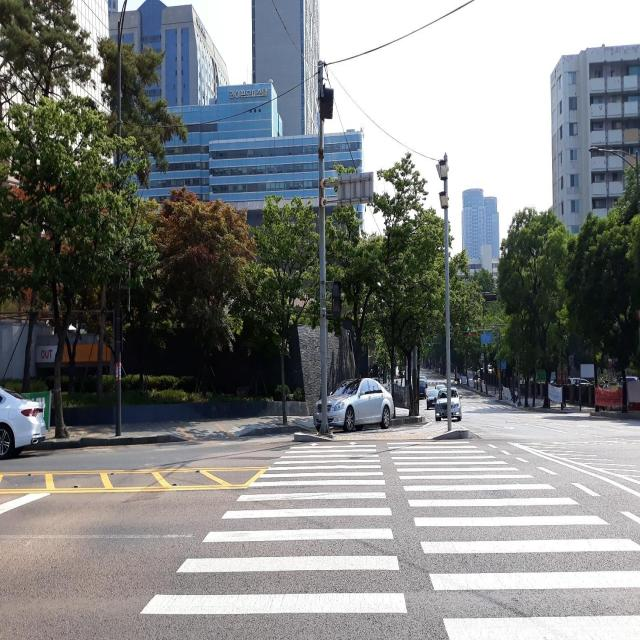횡단보도: (137, 432, 639, 640)
